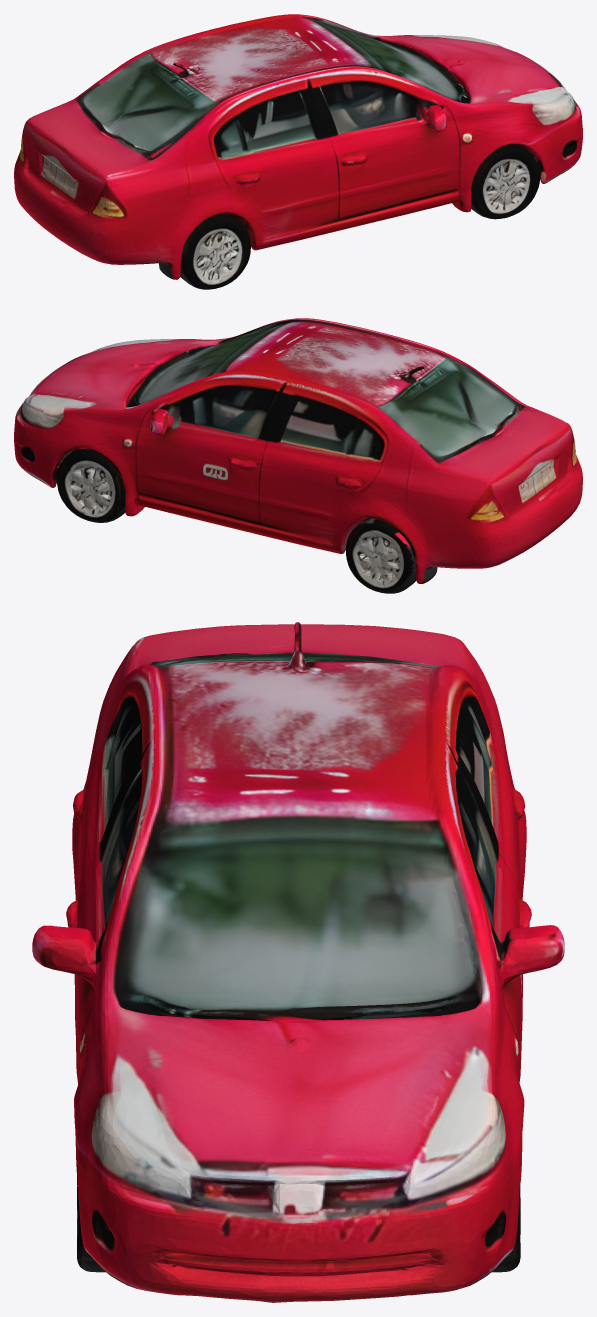
3 renders of one model, top to bottom at view 1: azimuth 30°, elevation 25°; view 2: azimuth 150°, elevation 25°; view 3: azimuth 270°, elevation 25°, orthographic. The views are drawn at different scales.
Parts seen in each view (by area): view 1: textured_mesh; view 2: textured_mesh; view 3: textured_mesh.
Boxes of the visible parts, left/top/right/bottom form: textured_mesh: left=14, top=14, right=582, bottom=289; textured_mesh: left=14, top=318, right=582, bottom=593; textured_mesh: left=32, top=622, right=564, bottom=1302.
Bounding box in the file's own units: 1.99 × 0.6874 × 0.896.
1 material, 1 textured.
